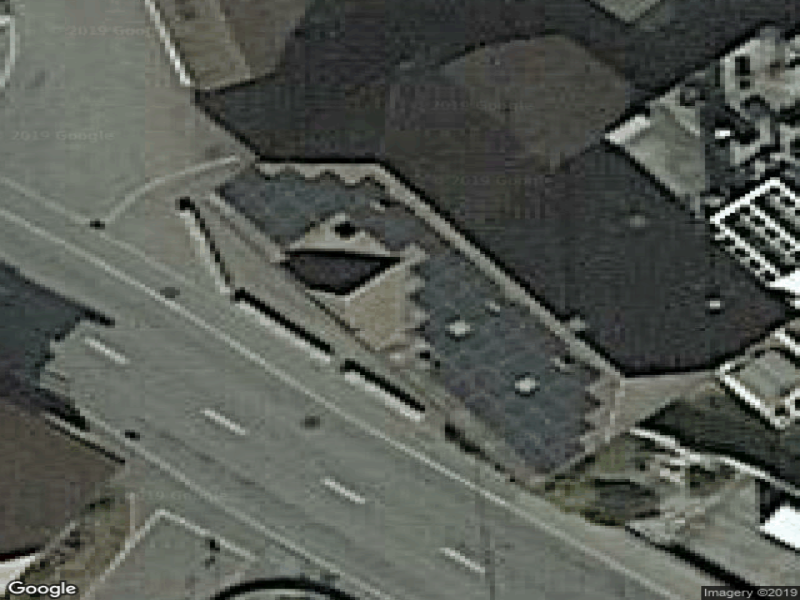pv: (222, 164, 596, 477)
